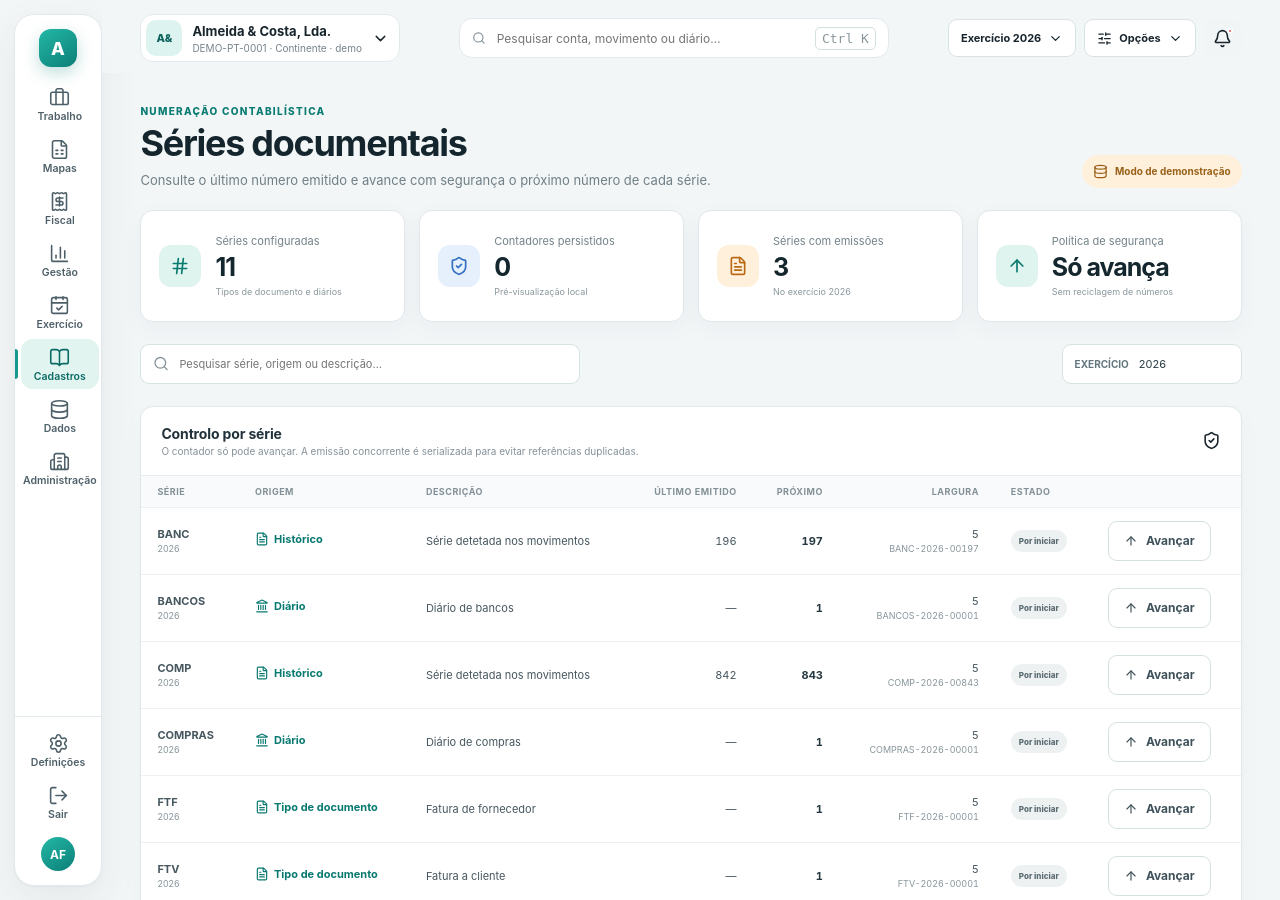
Scenario: App › shows and safely advances document number series
Expected: the heading "Séries documentais" is shown, [140,121,467,165]
Expected: the link "Tipo de documento" next to "Fatura de fornecedor" is shown, [255,800,378,814]
Click the button "Avançar" in the row of "Fatura a cliente". click: coordinates (1159, 876)
box: [1108,856,1211,896]
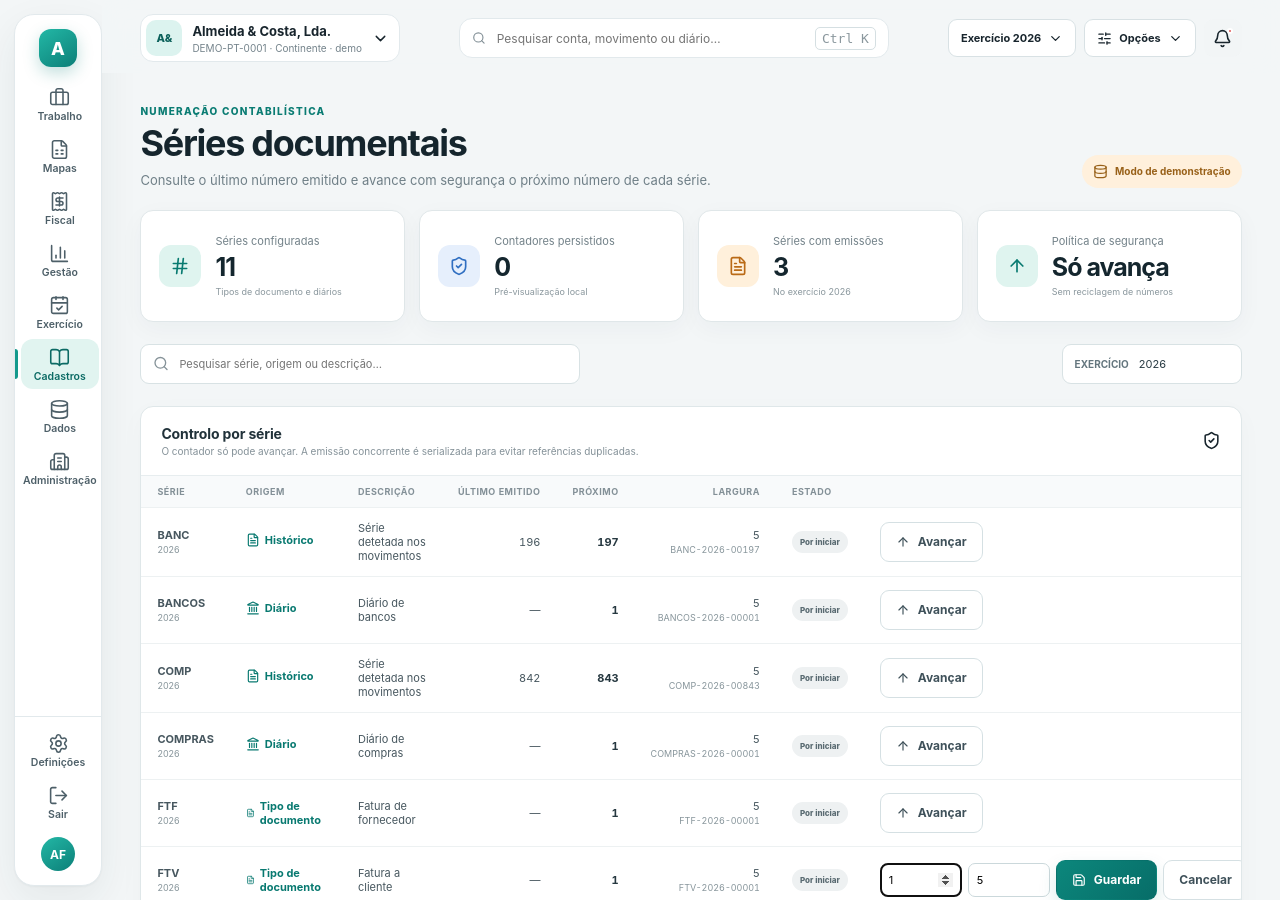
Replace the text in the number field named "Próximo número de FTV" with "20". click: coordinates (921, 880)
box: [880,863,962,897]
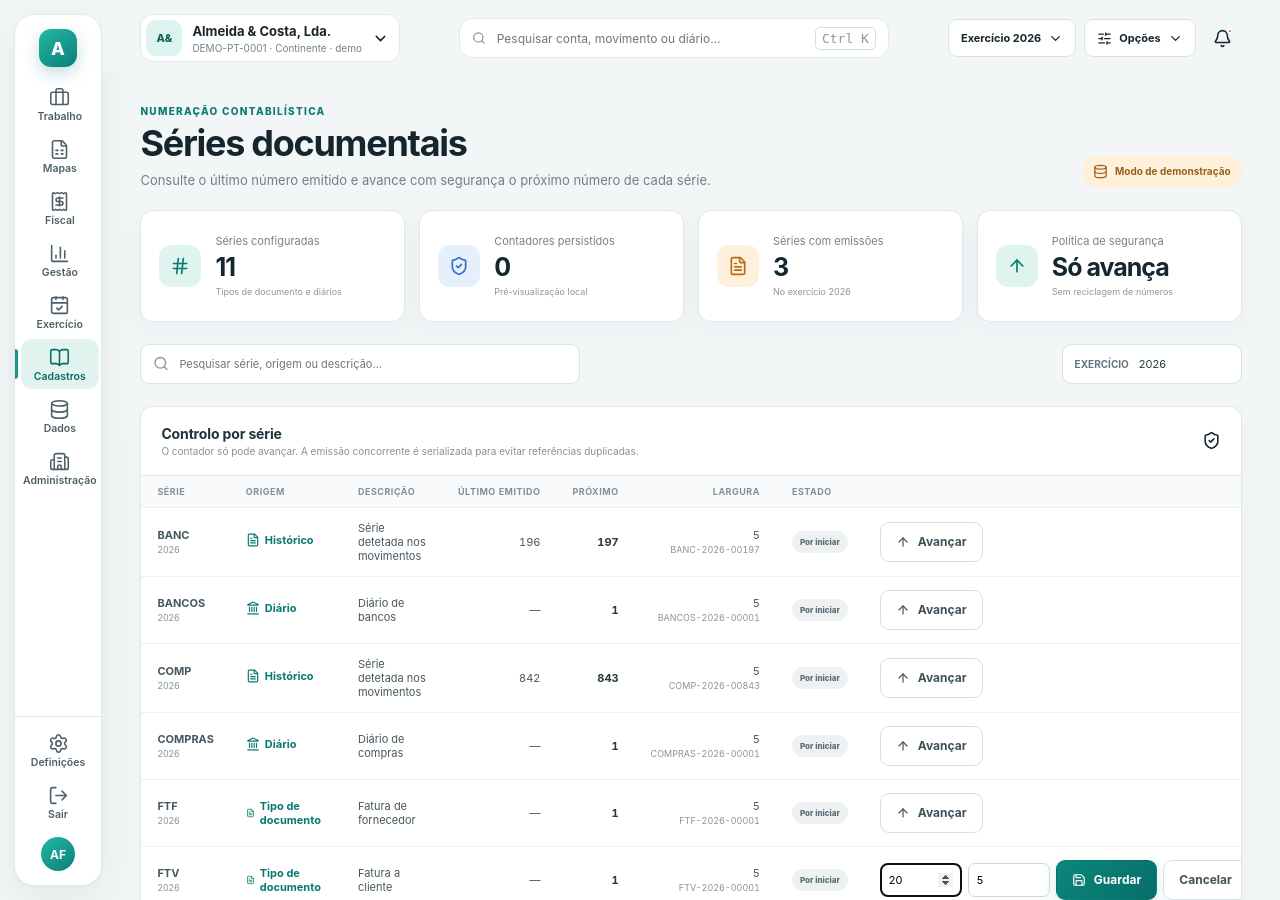
Click the button "Guardar". click: coordinates (1107, 880)
box: [1056,860,1157,899]
(page scrolled)
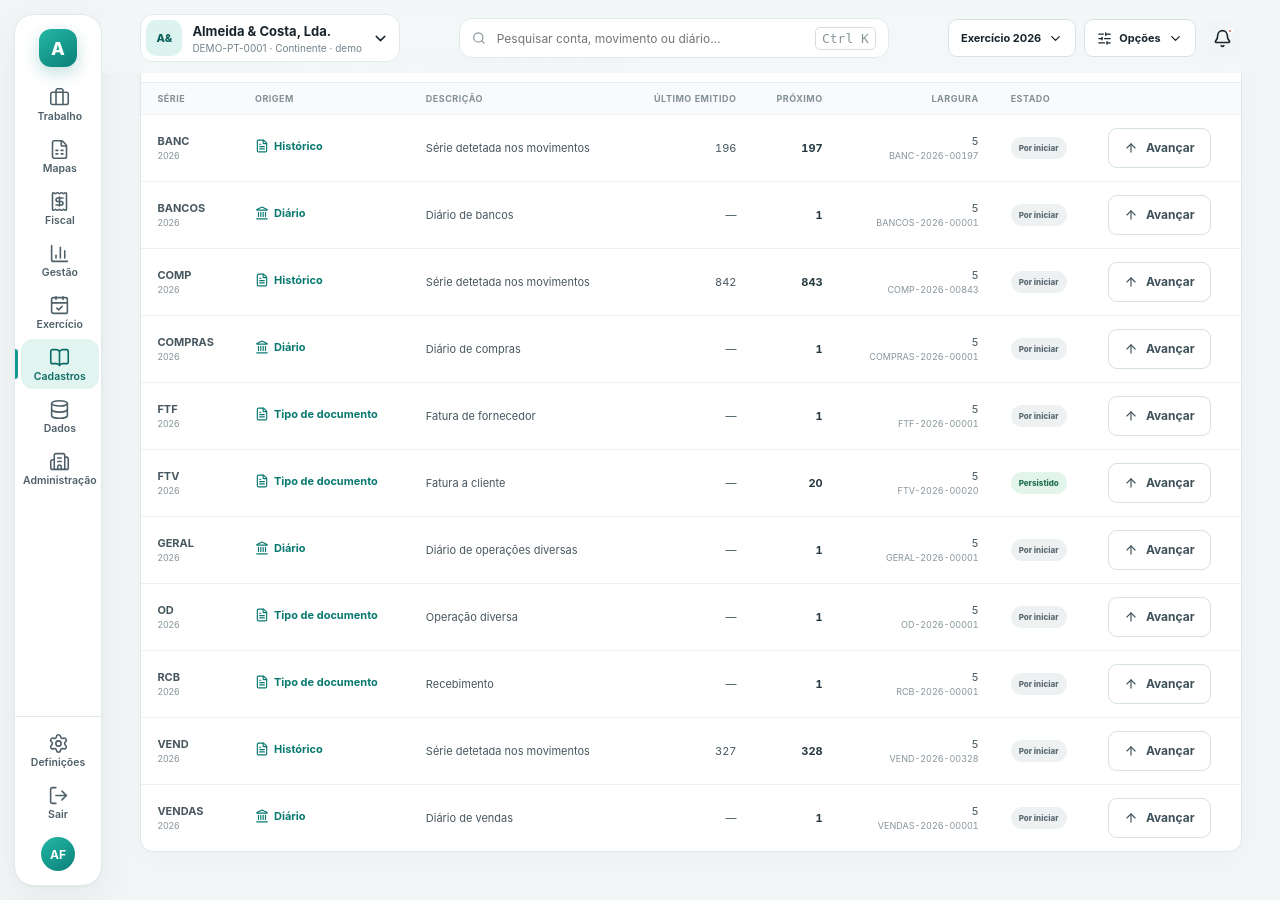
Now the text "20" is shown, box [752,449,839,516]
